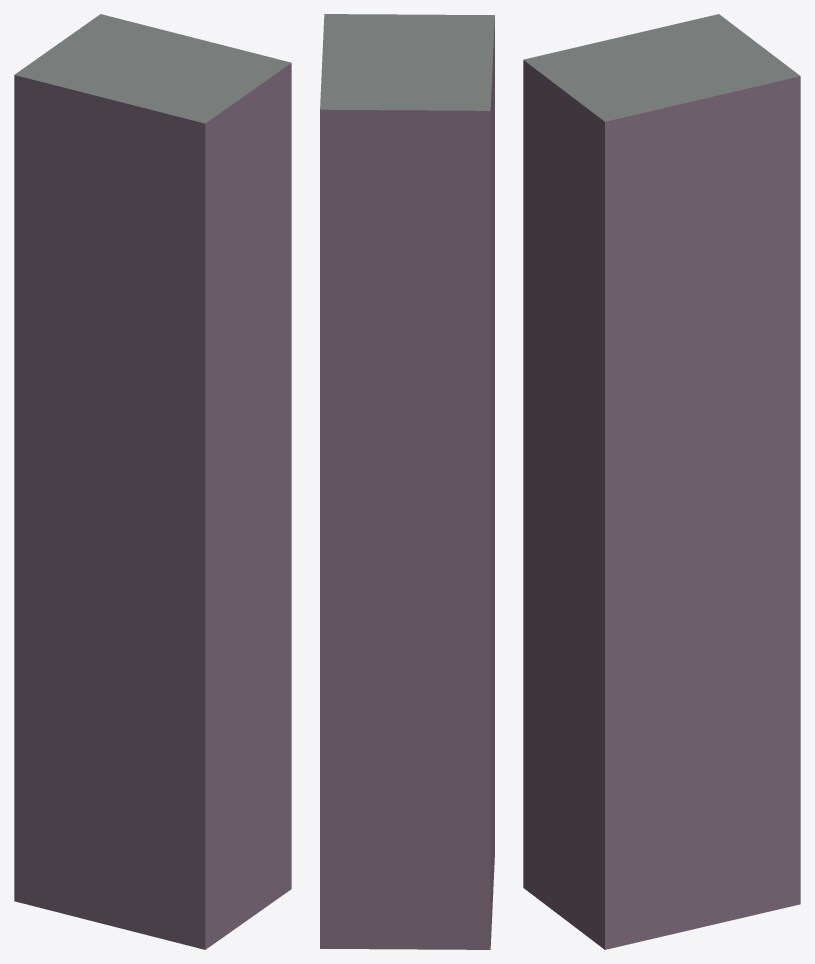
Rendered from nyc-1022578-0.glb.
3 renders of one model, left to right at view 1: azimuth 30°, elevation 25°; view 2: azimuth 150°, elevation 25°; view 3: azimuth 270°, elevation 25°, orthographic.
Parts seen in each view (by area): view 1: nyc-1022578-0; view 2: nyc-1022578-0; view 3: nyc-1022578-0.
Boxes of the visible parts, x1,y1,x2,y2 form: nyc-1022578-0: [14, 14, 291, 949]; nyc-1022578-0: [320, 14, 494, 949]; nyc-1022578-0: [523, 14, 800, 949].
Bounding box in the file's own units: 34.41 × 123 × 37.42.
